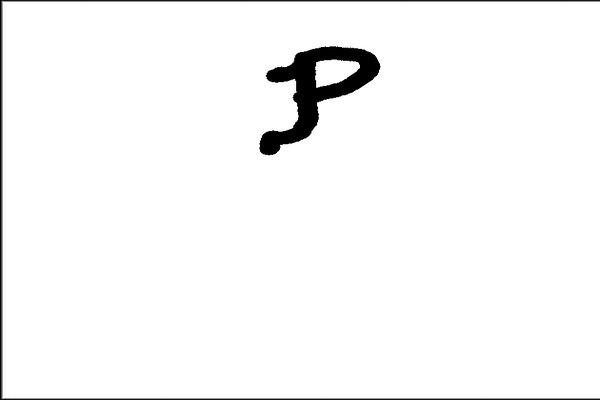P: (239, 32, 383, 165)
